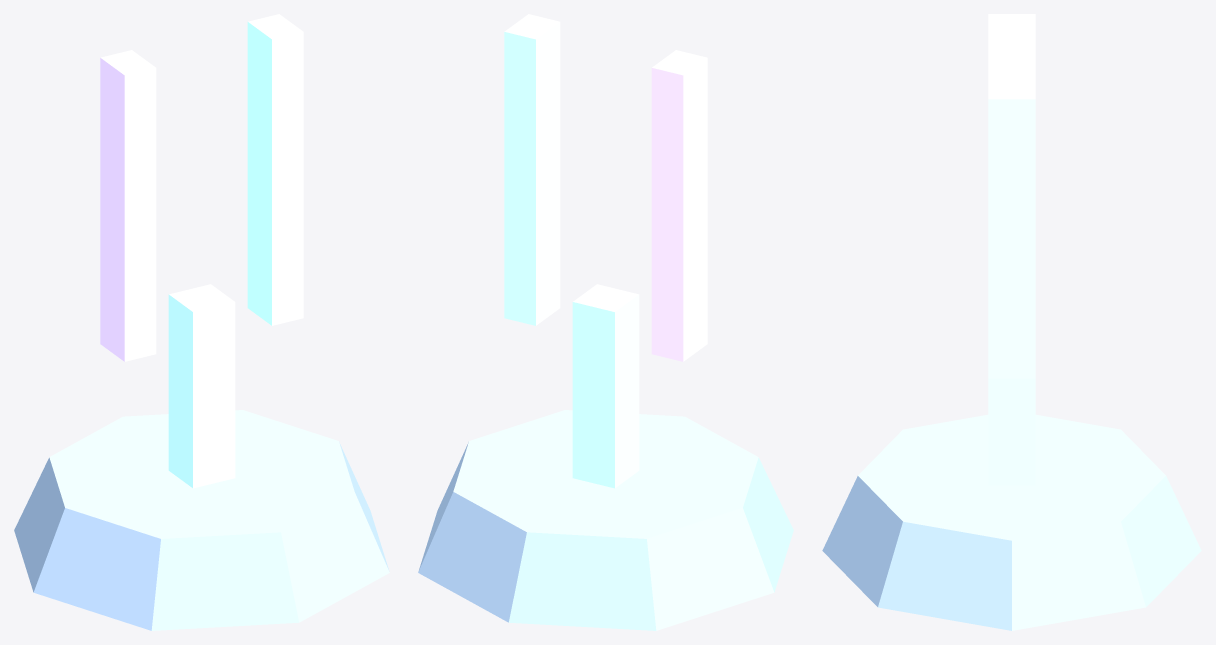
The model's file is spatial-tuning-fork.glb.
3 renders of one model, left to right at view 1: azimuth 30°, elevation 25°; view 2: azimuth 150°, elevation 25°; view 3: azimuth 270°, elevation 25°, orthographic. The views are drawn at different scales.
Parts seen in each view (by area): view 1: ForkBase, ProngRight, ProngLeft, ForkStem; view 2: ForkBase, ProngRight, ProngLeft, ForkStem; view 3: ForkBase, ProngRight, ForkStem, ProngLeft.
Boxes of the visible parts, left/top/right/bottom form: ForkBase: left=14, top=410, right=389, bottom=630; ProngRight: left=247, top=14, right=303, bottom=325; ProngLeft: left=100, top=50, right=156, bottom=361; ForkStem: left=168, top=284, right=235, bottom=488; ForkBase: left=418, top=410, right=793, bottom=630; ProngRight: left=504, top=14, right=560, bottom=325; ProngLeft: left=651, top=50, right=707, bottom=361; ForkStem: left=572, top=284, right=639, bottom=488; ForkBase: left=822, top=414, right=1201, bottom=630; ProngRight: left=988, top=84, right=1035, bottom=378; ForkStem: left=988, top=378, right=1035, bottom=485; ProngLeft: left=988, top=14, right=1035, bottom=83.
Bounding box in the file's own units: 0.64 × 0.92 × 0.64.
